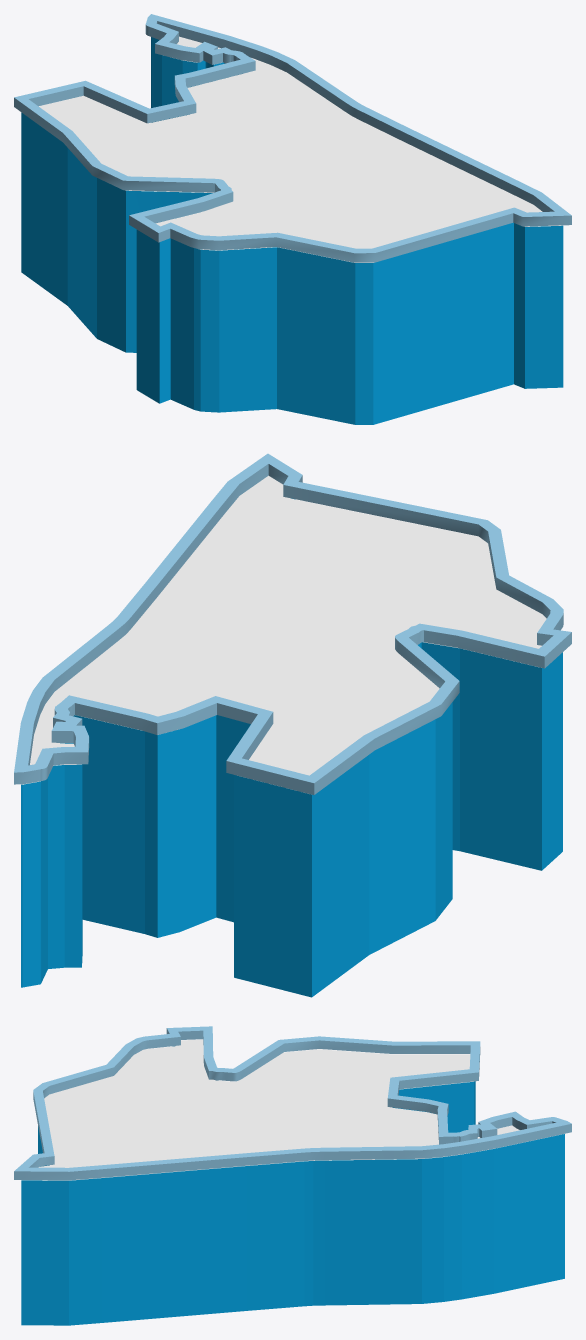
The picture shows the model from 3 angles, top to bottom: view 1: azimuth 30°, elevation 25°; view 2: azimuth 150°, elevation 25°; view 3: azimuth 270°, elevation 25°; orthographic projection. The views are drawn at different scales.
Visible parts, largest first — view 1: slide, celling, 扫描.3; view 2: slide, celling, 扫描.3; view 3: slide, celling, 扫描.3.
Boxes of the visible parts, left/top/right/bottom form: slide: left=21, top=37, right=563, bottom=424; celling: left=39, top=36, right=562, bottom=262; 扫描.3: left=14, top=14, right=571, bottom=262; slide: left=21, top=498, right=562, bottom=997; celling: left=21, top=475, right=546, bottom=784; 扫描.3: left=14, top=453, right=571, bottom=794; slide: left=21, top=1046, right=564, bottom=1325; celling: left=22, top=1039, right=563, bottom=1180; 扫描.3: left=14, top=1026, right=571, bottom=1180.
Size of the model in its own units: 108 by 53.75 by 175.
